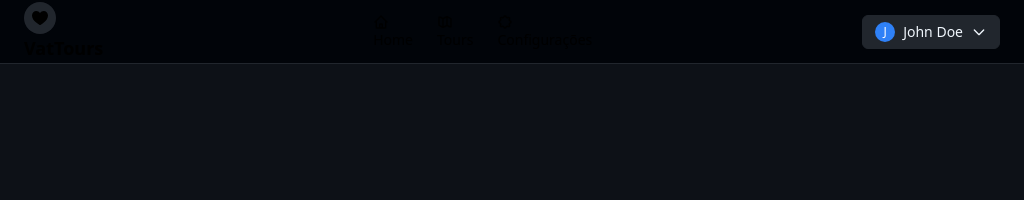
Scenario: HeaderClient Component › should close menus when clicking outside
Click the button "J John Doe" at (931, 32), box [862,14,1000,48]
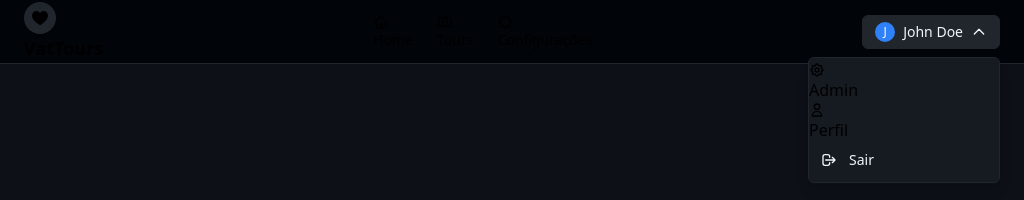
expect the menu item "Sair" is shown: met, box [809,142,999,178]
Press the mouse on the element that starts with "VatTours" at (512, 32), box [0,0,1023,64]
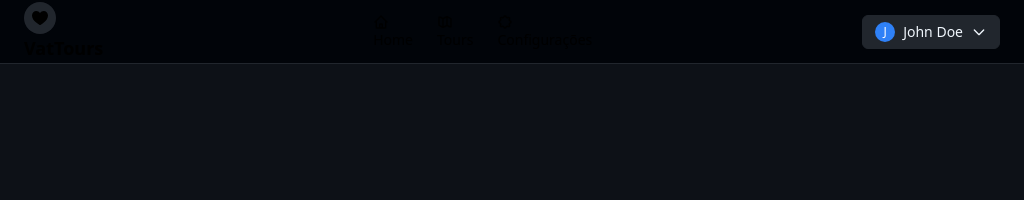
expect the menu item "Sair" is gone: met
